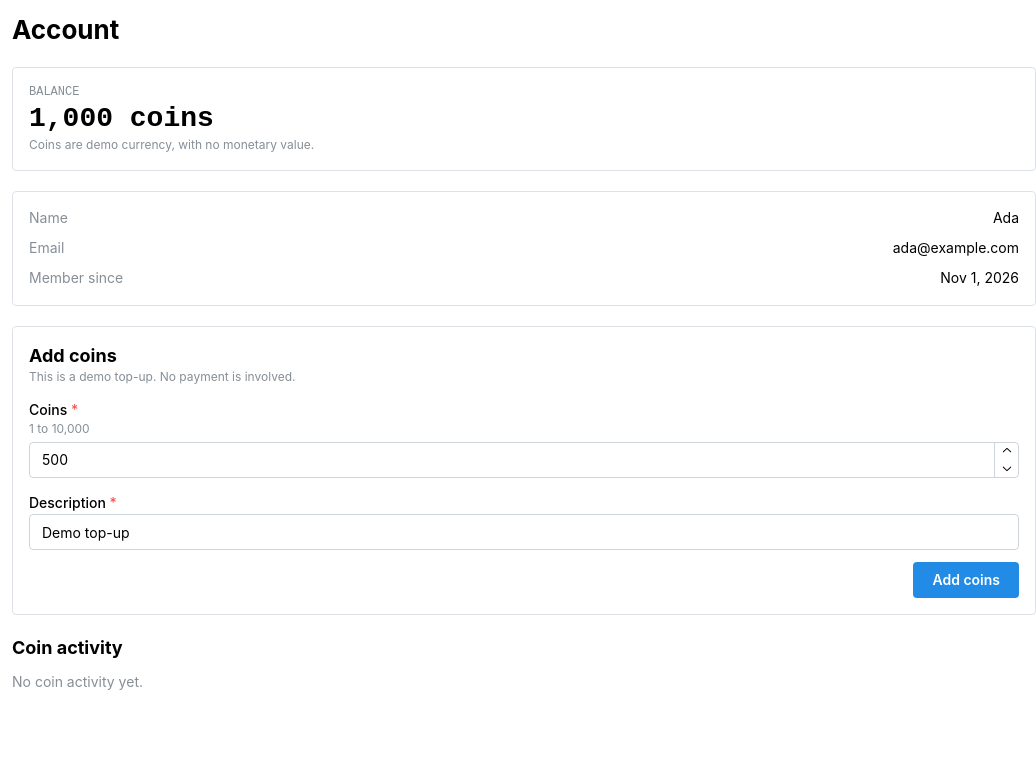
Test: ChargeForm › refuses an empty description without calling the API
Clear the field labelled "Description *". click: (524, 532)
box: x1=29 y1=514 x2=1019 y2=550
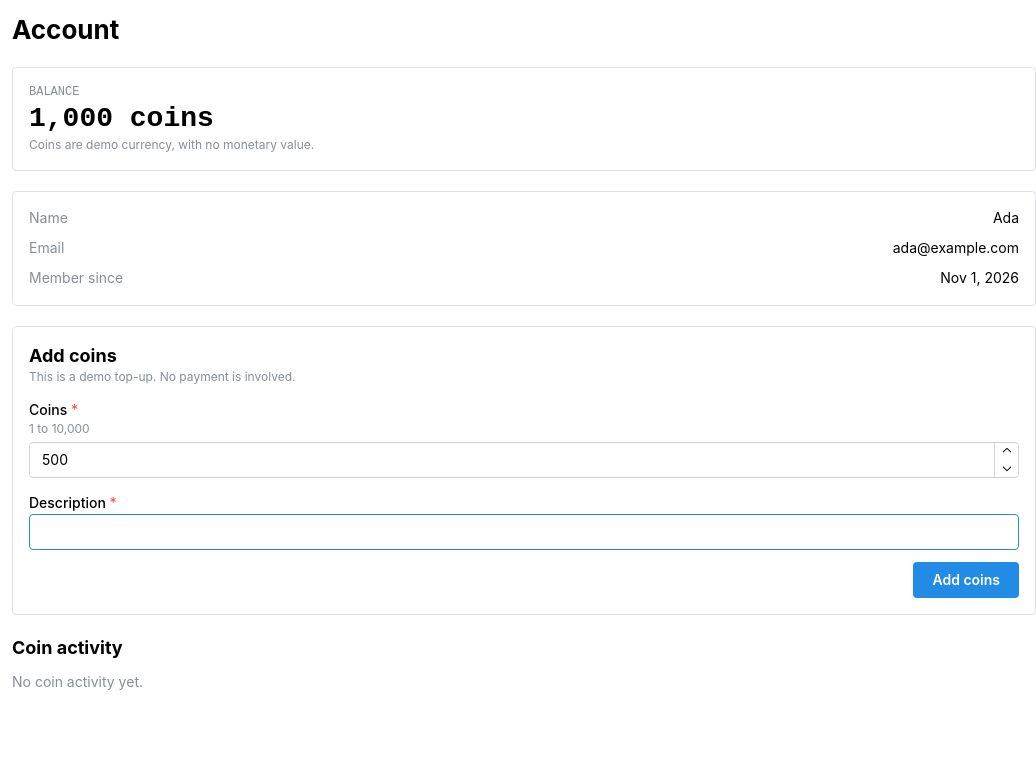
Click the button "Add coins". click: (966, 580)
box: x1=913 y1=562 x2=1019 y2=598
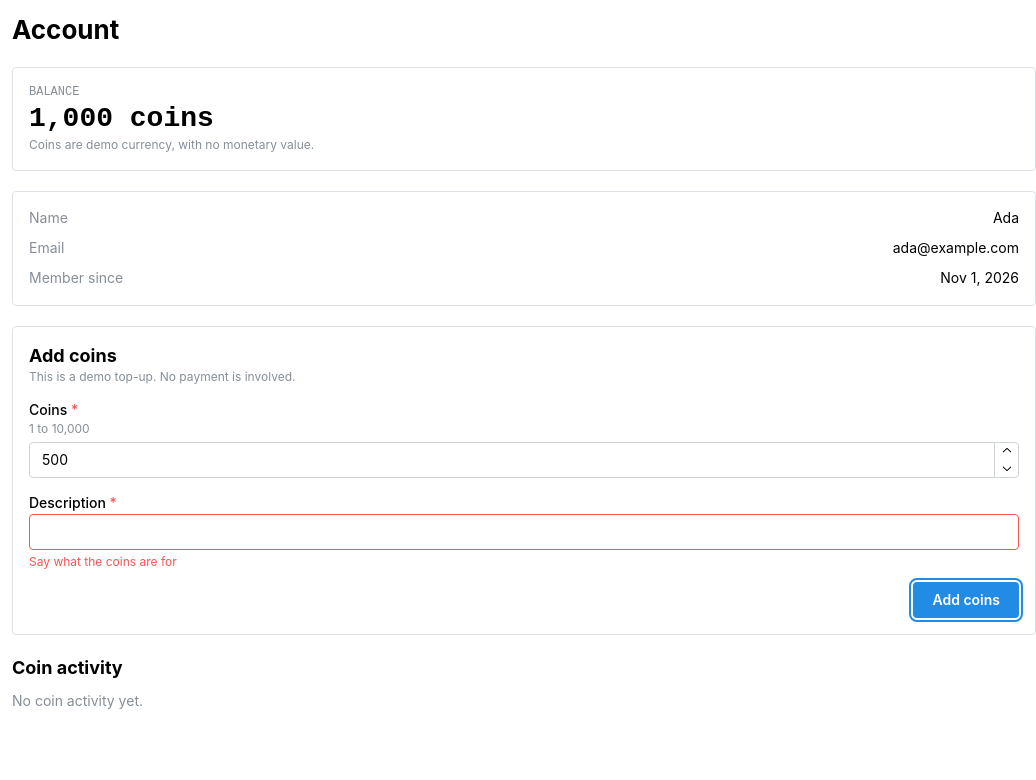
Expected: the text "Say what the coins are for" is shown, x1=29 y1=554 x2=177 y2=570
